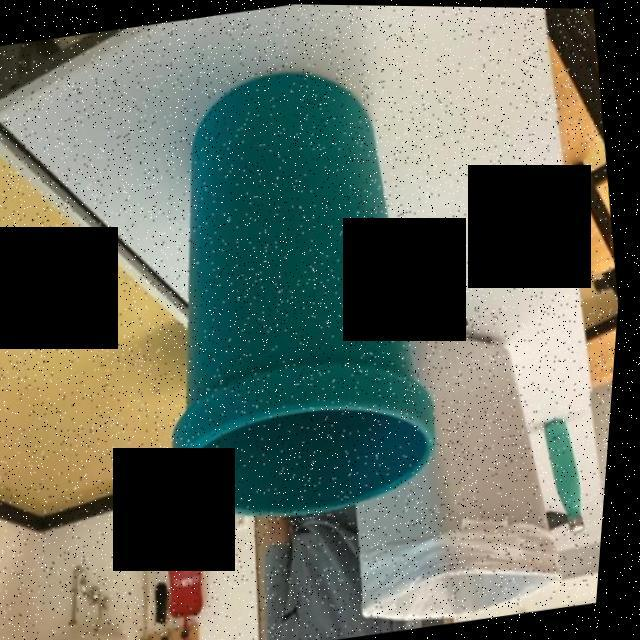bin: (104, 39, 489, 558), (312, 294, 600, 639)
